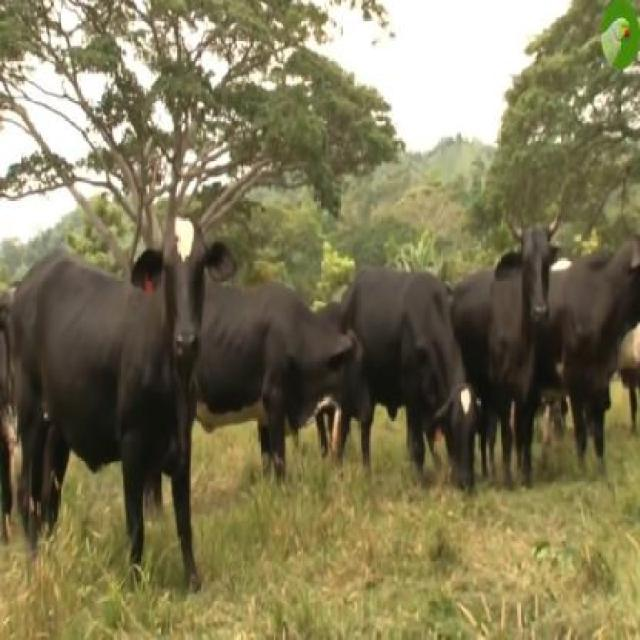Cow: (11, 218, 237, 590), (200, 278, 371, 480), (335, 263, 477, 497), (451, 214, 563, 477)
